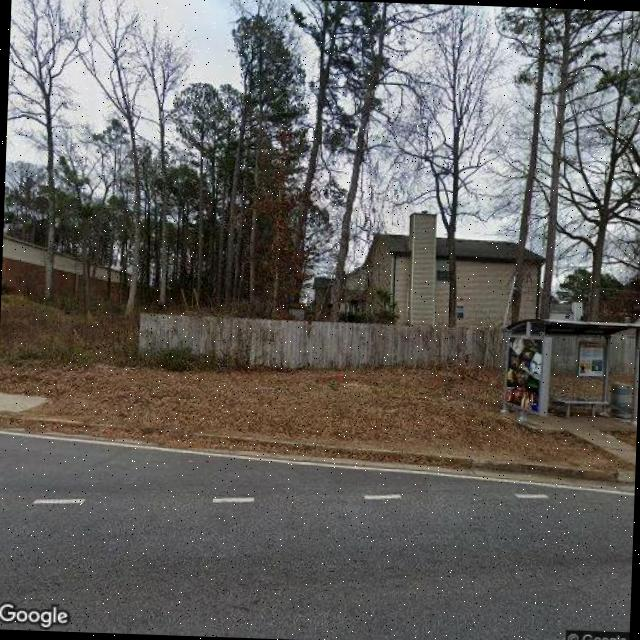seating: (556, 396, 608, 422)
shelter: (501, 315, 640, 428)
trash_can: (610, 382, 632, 421)
